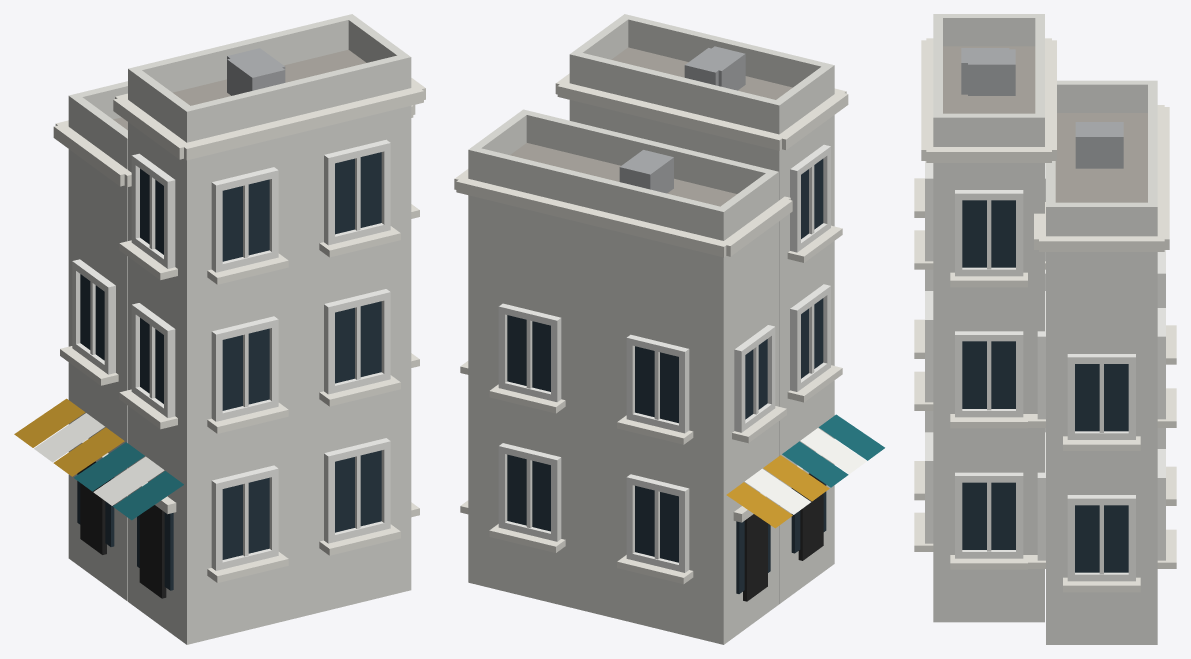
The picture shows the model from 3 angles, left to right: view 1: azimuth 30°, elevation 25°; view 2: azimuth 150°, elevation 25°; view 3: azimuth 270°, elevation 25°; orthographic projection. The views are drawn at different scales.
Parts seen in each view (by area): view 1: b10220; view 2: b10220; view 3: b10220.
Part boxes in pixels (box(x1,y1,x2,y2)): b10220: box(14, 14, 425, 644); b10220: box(454, 14, 884, 644); b10220: box(914, 14, 1176, 644).
Size of the model in its own units: 3152 by 4677 by 2190.
